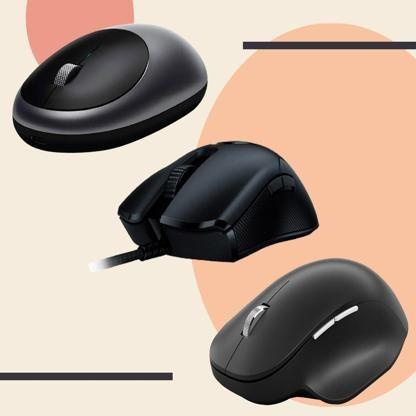not trash: (206, 259, 411, 405), (8, 23, 209, 152), (110, 139, 317, 264)
